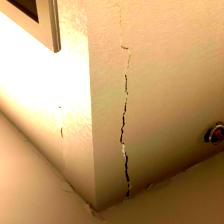Medium: (107, 44, 148, 200)
